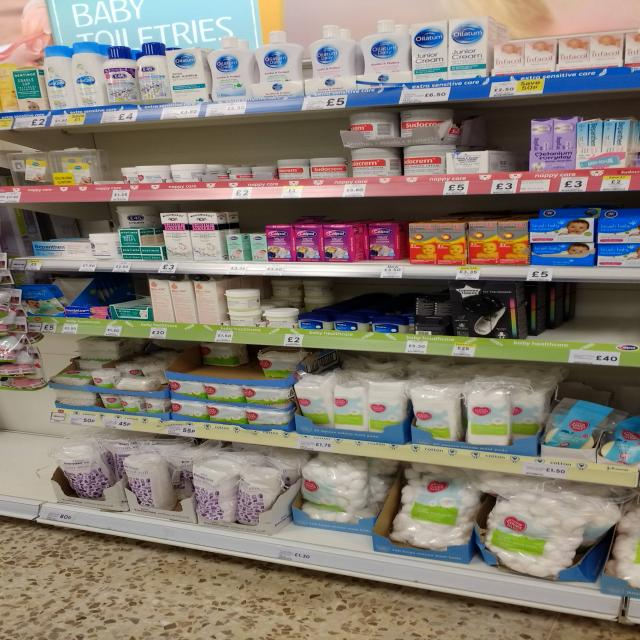empty: (525, 276, 640, 342), (493, 106, 533, 185)
